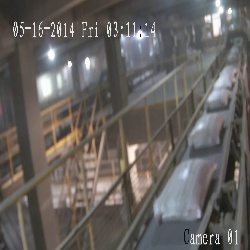cementbag: (154, 158, 217, 220), (187, 113, 225, 148), (206, 88, 231, 109), (214, 76, 235, 88), (219, 65, 239, 76)
